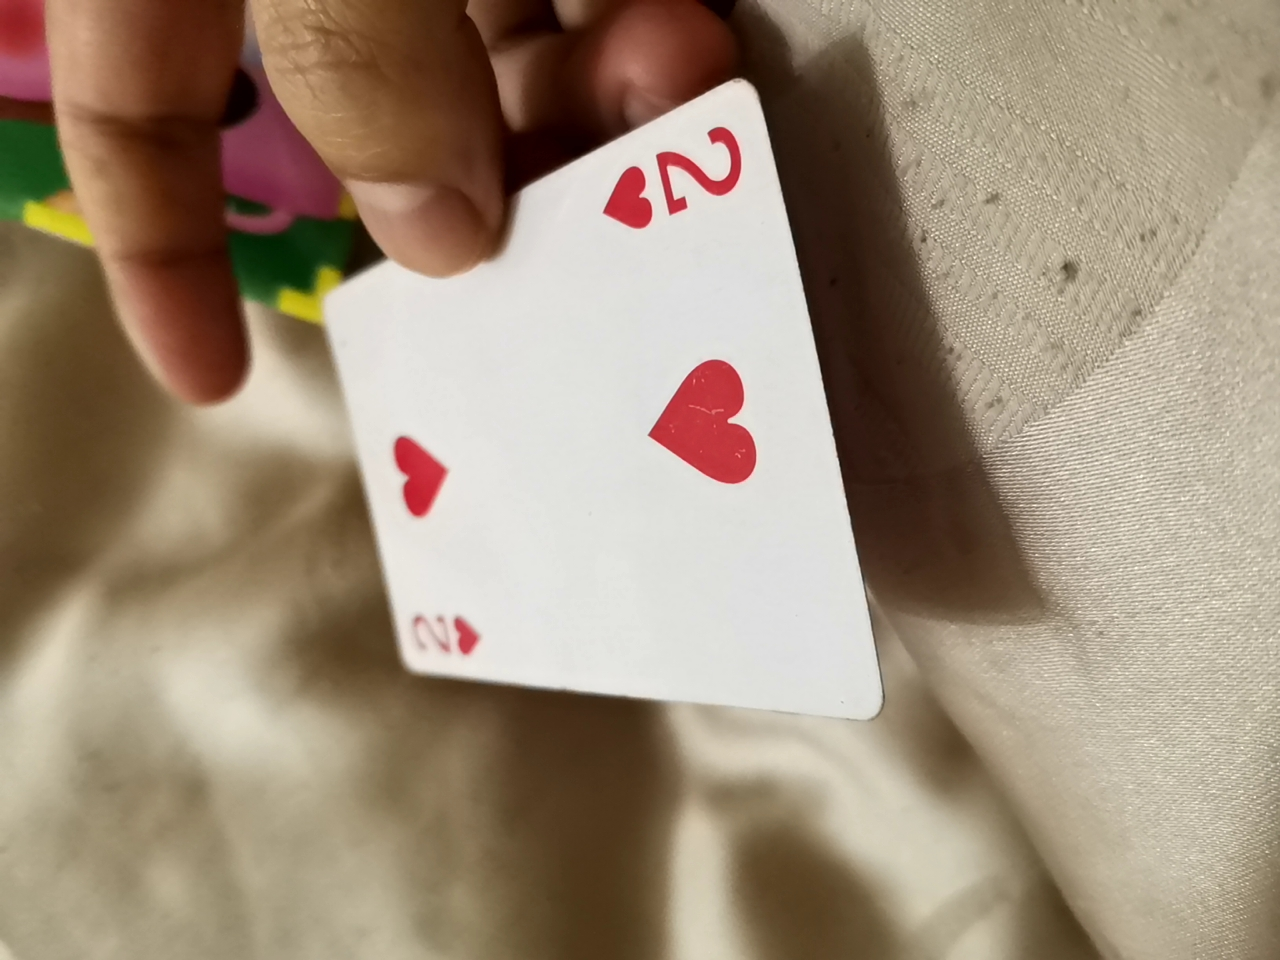hx 2: (310, 79, 859, 742)
